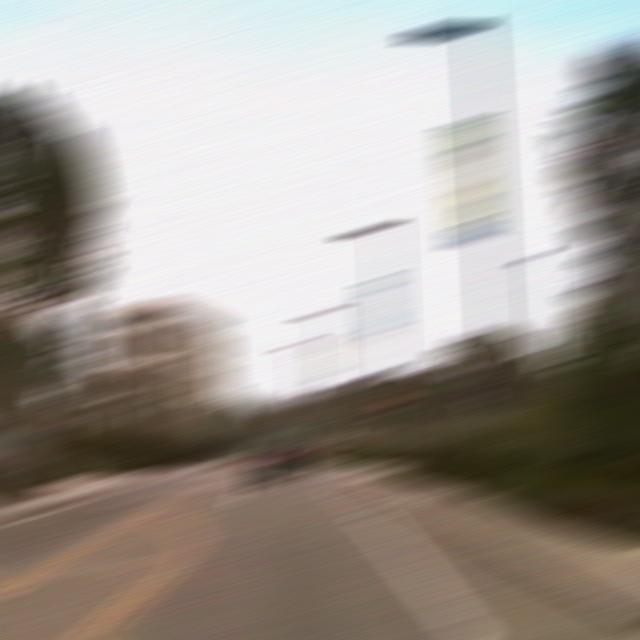stop: (376, 390, 410, 413)
